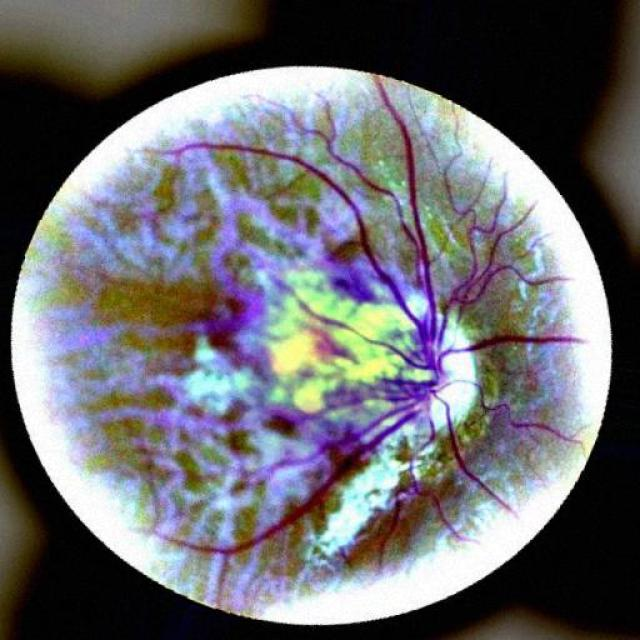Nerves: (151, 75, 582, 555)
